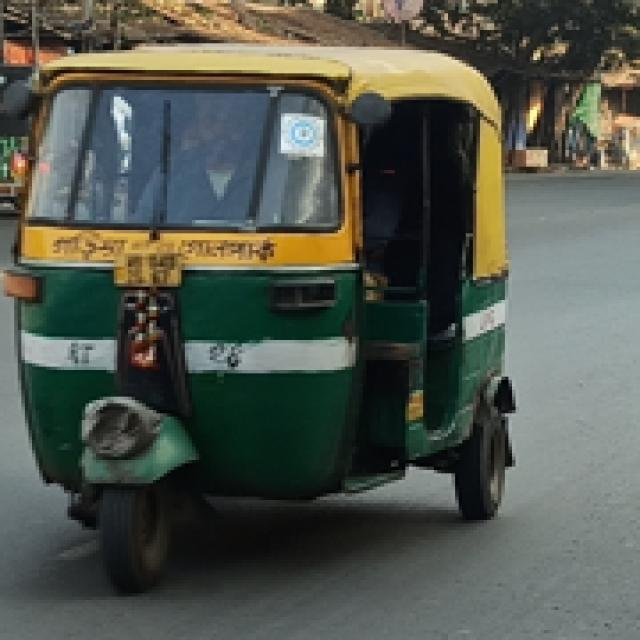autorickshaw: (7, 36, 523, 596)
